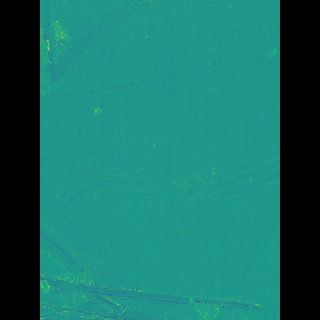Loch: (68, 189, 237, 320), (76, 154, 250, 221), (69, 0, 159, 92), (71, 70, 203, 101)
